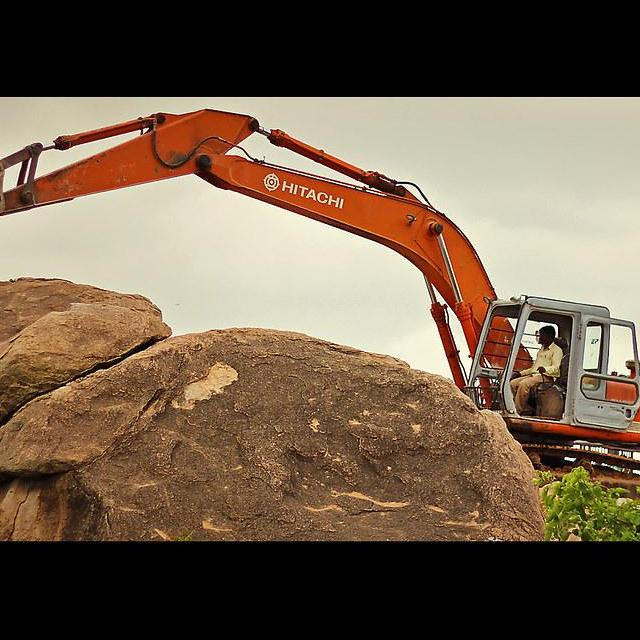Excavator: (0, 106, 640, 514)
NO-Hardhat: (536, 323, 557, 336)
NO-Mask: (537, 338, 552, 346)
NO-Safety Vest: (532, 348, 558, 375)
Person: (506, 323, 562, 413)
